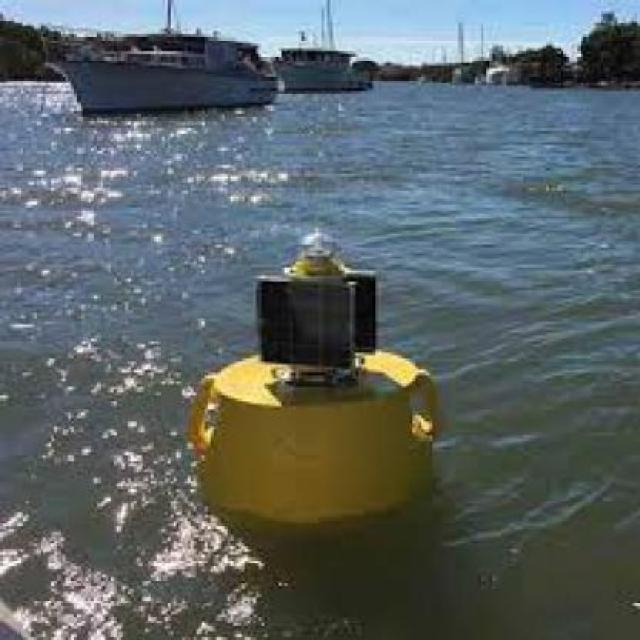buoy: (163, 217, 460, 545)
